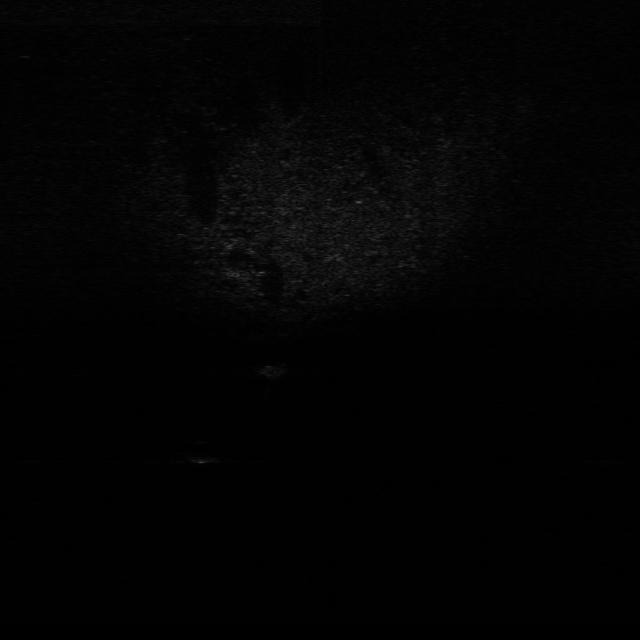ball: (182, 437, 226, 465)
cube: (253, 359, 296, 380)
